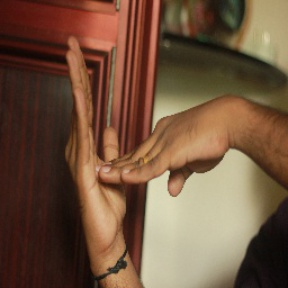Z: (53, 32, 234, 243)
